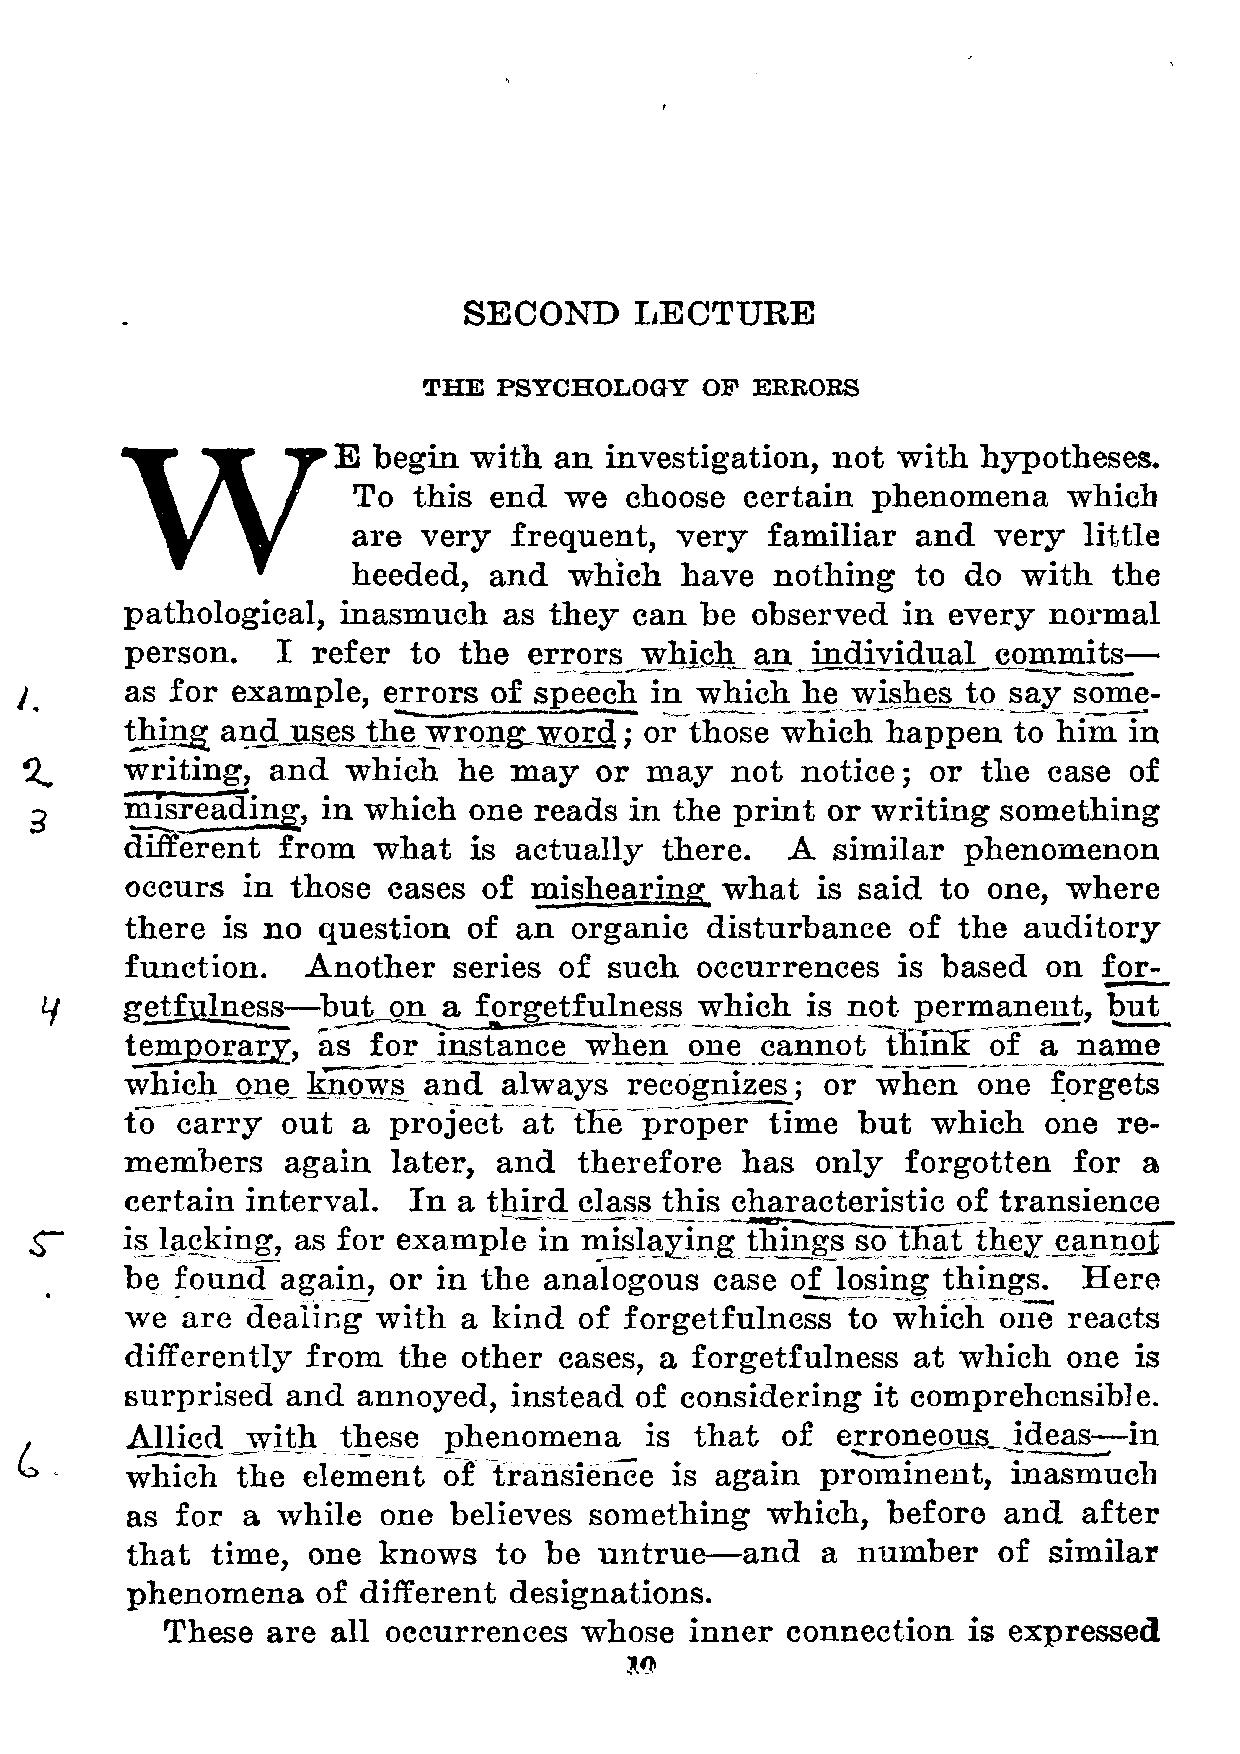chapter: (459, 291, 819, 331), (417, 374, 862, 399)
content: (115, 442, 1162, 1649)
content_pagenumber: (623, 1652, 658, 1680)
